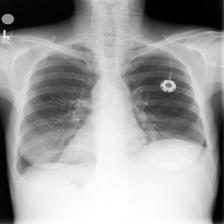normal: (12, 38, 213, 178)
